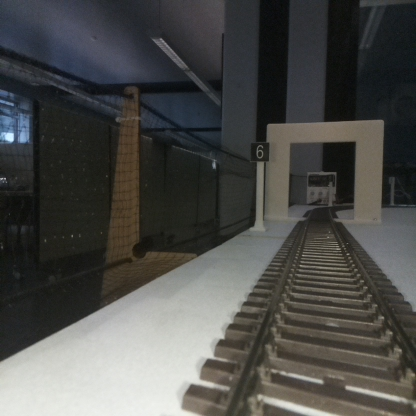black-info-6: (251, 141, 269, 230)
